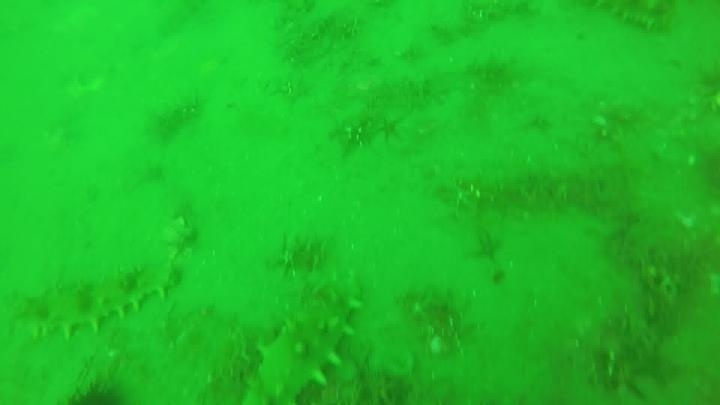echinus: (65, 378, 128, 405)
holothurian: (243, 269, 365, 405), (10, 260, 183, 341), (579, 1, 677, 36), (146, 91, 205, 145), (466, 45, 524, 84)
